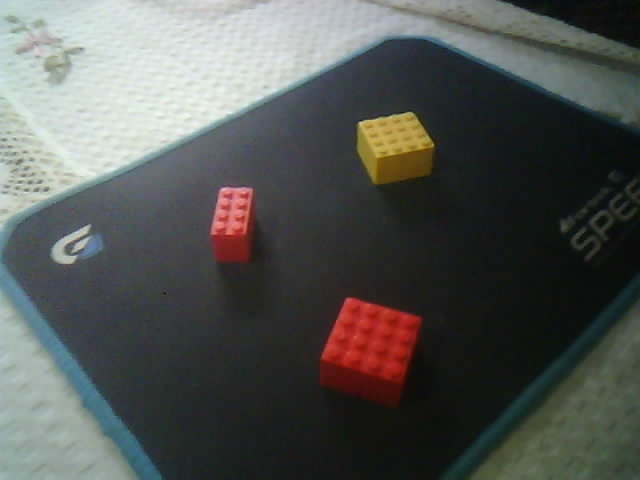lego: (319, 294, 424, 410), (355, 109, 436, 188), (210, 183, 258, 265)
